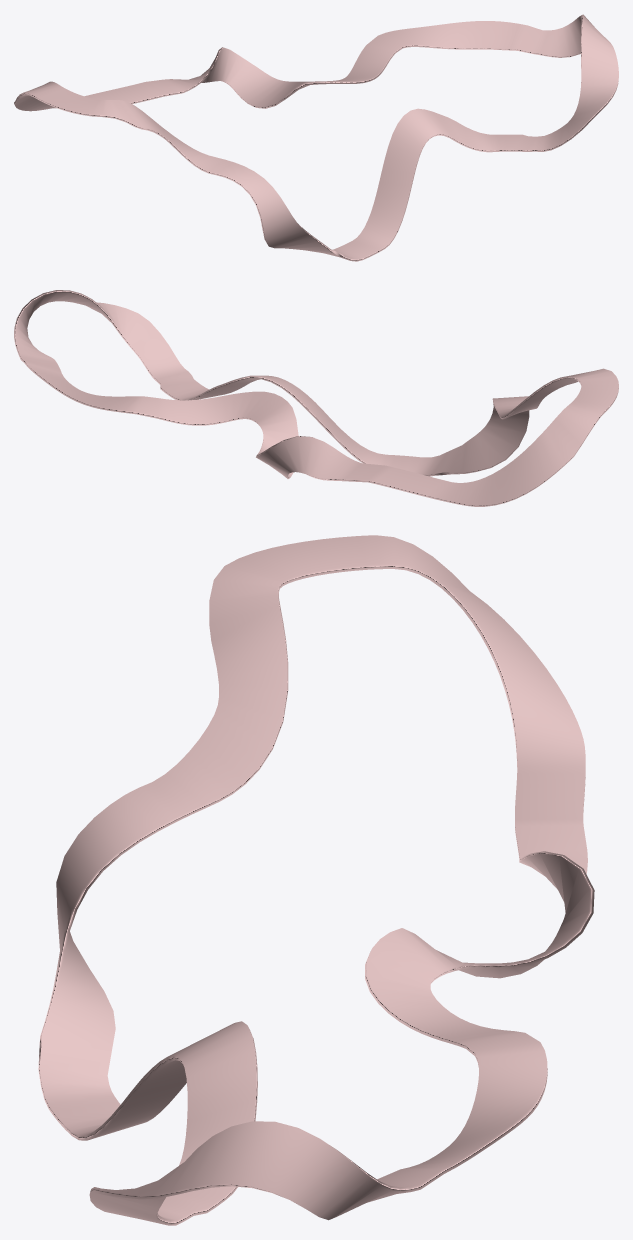
Rendered from TrackA.fbx.
The picture shows the model from 3 angles, top to bottom: view 1: azimuth 30°, elevation 25°; view 2: azimuth 150°, elevation 25°; view 3: azimuth 270°, elevation 25°; orthographic projection. The views are drawn at different scales.
Visible parts, largest first — view 1: polySurface5; view 2: polySurface5; view 3: polySurface5.
Part boxes in pixels (x1=…): polySurface5: x1=14, y1=14, x2=618, y2=261; polySurface5: x1=14, y1=290, x2=618, y2=506; polySurface5: x1=38, y1=535, x2=594, y2=1225.
Bounding box in the file's own units: 293 × 84.79 × 129.
